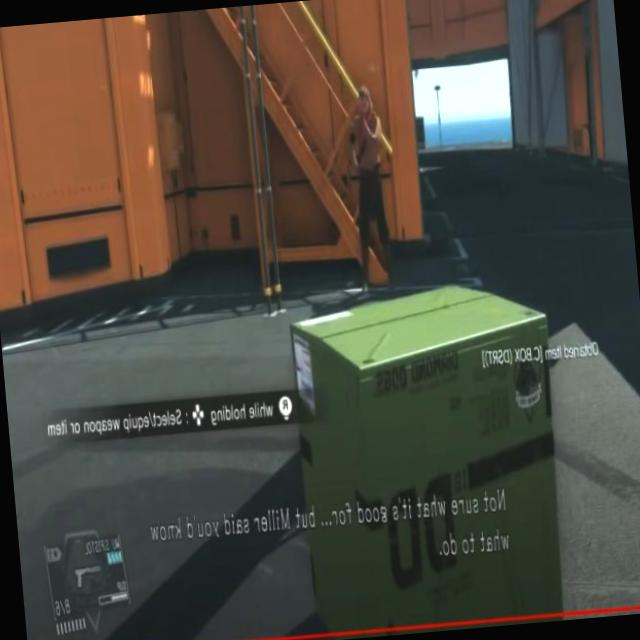snake-in-cardboard-boxes: (283, 270, 574, 640)
